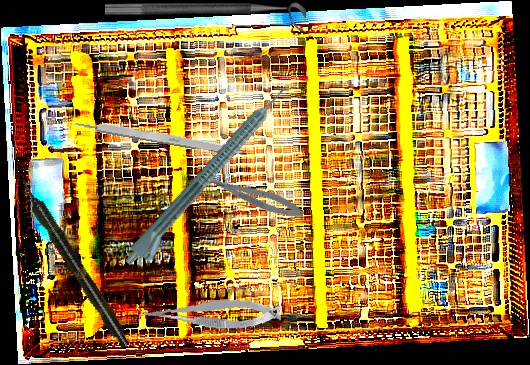Fixation Ring: (105, 2, 306, 33)
Handpiece: (120, 82, 299, 275), (15, 175, 134, 351)
Micro Scissor: (192, 164, 307, 224), (139, 289, 283, 336)
Scalpel Handle: (72, 115, 249, 159)
